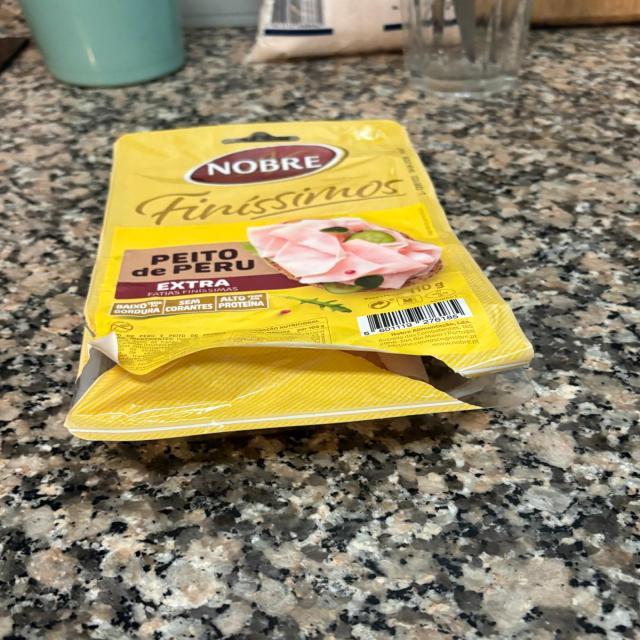damaged_package: (65, 118, 538, 440)
